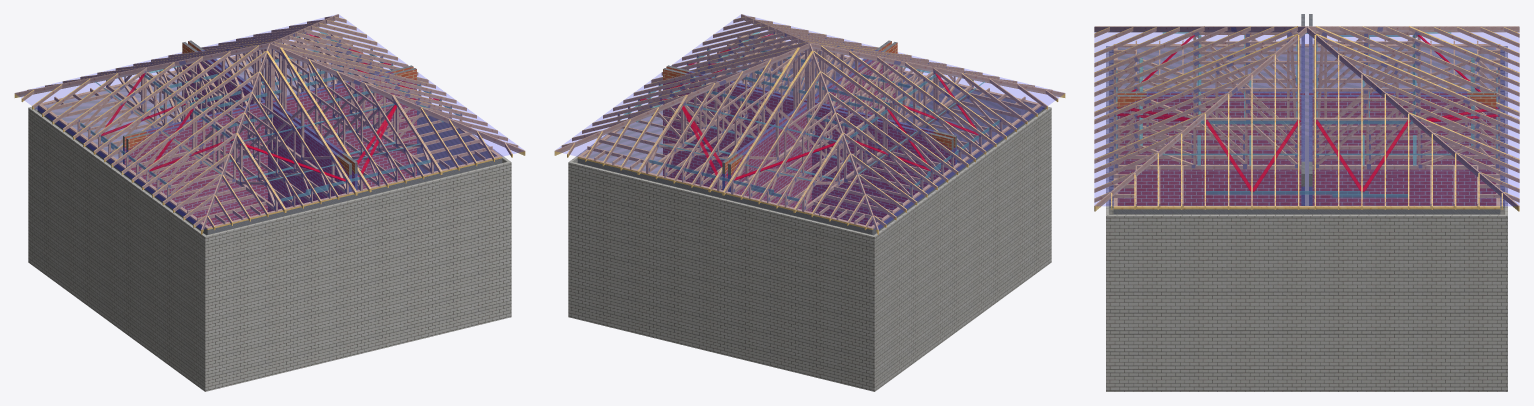
The picture shows the model from 3 angles, left to right: view 1: azimuth 30°, elevation 25°; view 2: azimuth 150°, elevation 25°; view 3: azimuth 270°, elevation 25°; orthographic projection. The views are drawn at different scales.
Parts seen in each view (by area): view 1: skfb_offset; view 2: skfb_offset; view 3: skfb_offset.
Boxes of the visible parts, bbox=[...] form: skfb_offset: bbox=[14, 14, 525, 391]; skfb_offset: bbox=[554, 14, 1065, 391]; skfb_offset: bbox=[1094, 14, 1519, 391].
Bounding box in the file's own units: 1 × 0.7274 × 1.
Materials: 9 (6 with a texture image).
